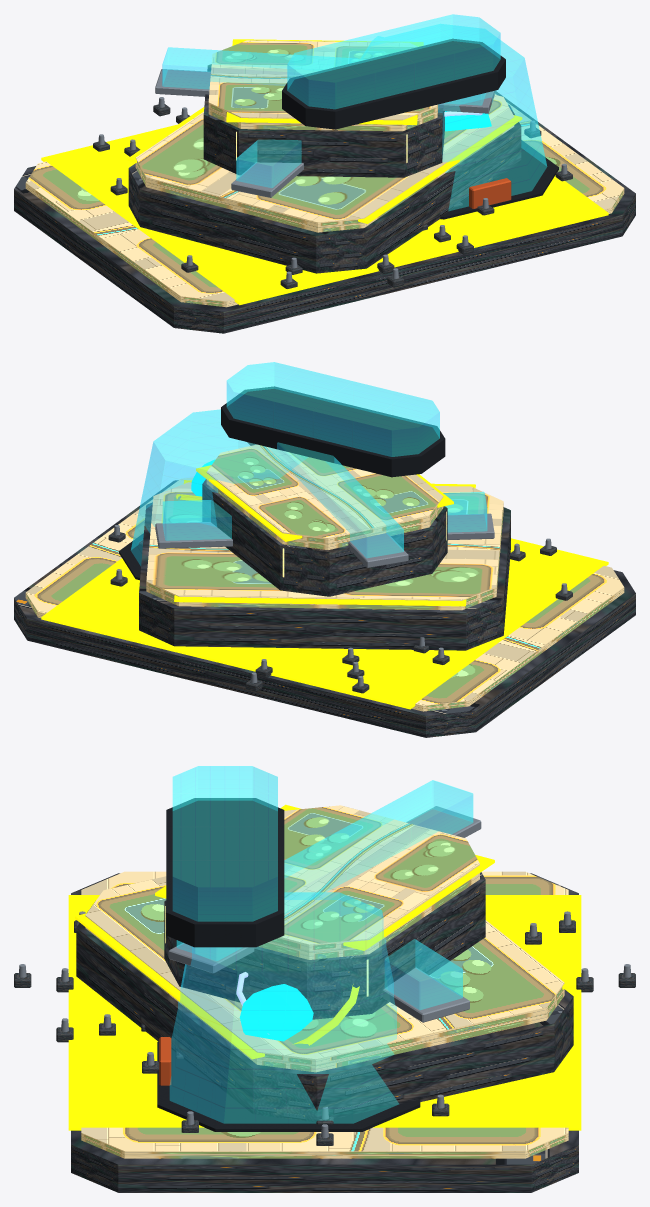
The model's file is interior_setpiece_05_r1_05.glb.
3 renders of one model, top to bottom at view 1: azimuth 30°, elevation 25°; view 2: azimuth 150°, elevation 25°; view 3: azimuth 270°, elevation 25°, orthographic. The views are drawn at different scales.
Parts seen in each view (by area): view 1: Setpiece05_C05_cliff_basalt, Setpiece05_C05_promenade_paving, Setpiece05_C05_glass_cyan, Setpiece05_C05_led_amber, Setpiece05_C05_gunmetal, Setpiece05_C05_steel_machined, Setpiece05_C05_accent_orange, Setpiece05_C05_led_cyan; view 2: Setpiece05_C05_cliff_basalt, Setpiece05_C05_promenade_paving, Setpiece05_C05_glass_cyan, Setpiece05_C05_led_amber, Setpiece05_C05_gunmetal, Setpiece05_C05_steel_machined; view 3: Setpiece05_C05_glass_cyan, Setpiece05_C05_cliff_basalt, Setpiece05_C05_promenade_paving, Setpiece05_C05_led_amber, Setpiece05_C05_gunmetal, Setpiece05_C05_steel_machined, Setpiece05_C05_led_cyan, Setpiece05_C05_accent_orange.
Boxes of the visible parts, bbox=[...] form: Setpiece05_C05_cliff_basalt: bbox=[14, 64, 635, 333]; Setpiece05_C05_promenade_paving: bbox=[25, 40, 624, 307]; Setpiece05_C05_glass_cyan: bbox=[162, 14, 547, 210]; Setpiece05_C05_led_amber: bbox=[41, 39, 608, 305]; Setpiece05_C05_gunmetal: bbox=[282, 39, 558, 219]; Setpiece05_C05_steel_machined: bbox=[98, 69, 567, 282]; Setpiece05_C05_accent_orange: bbox=[469, 178, 511, 208]; Setpiece05_C05_led_cyan: bbox=[445, 111, 491, 131]; Setpiece05_C05_cliff_basalt: bbox=[14, 479, 635, 737]; Setpiece05_C05_promenade_paving: bbox=[25, 444, 624, 711]; Setpiece05_C05_glass_cyan: bbox=[131, 362, 487, 565]; Setpiece05_C05_led_amber: bbox=[41, 465, 608, 709]; Setpiece05_C05_gunmetal: bbox=[119, 386, 445, 580]; Setpiece05_C05_steel_machined: bbox=[114, 442, 567, 686]; Setpiece05_C05_glass_cyan: bbox=[170, 766, 473, 1123]; Setpiece05_C05_cliff_basalt: bbox=[14, 872, 635, 1192]; Setpiece05_C05_promenade_paving: bbox=[81, 805, 568, 1158]; Setpiece05_C05_led_amber: bbox=[68, 804, 581, 1130]; Setpiece05_C05_gunmetal: bbox=[157, 798, 420, 1131]; Setpiece05_C05_steel_machined: bbox=[18, 806, 631, 1137]; Setpiece05_C05_led_cyan: bbox=[240, 984, 313, 1041]; Setpiece05_C05_accent_orange: bbox=[159, 1037, 171, 1085].
Size of the model in its own units: 38 by 14.6 by 34.29.
10 materials, 10 textured.
